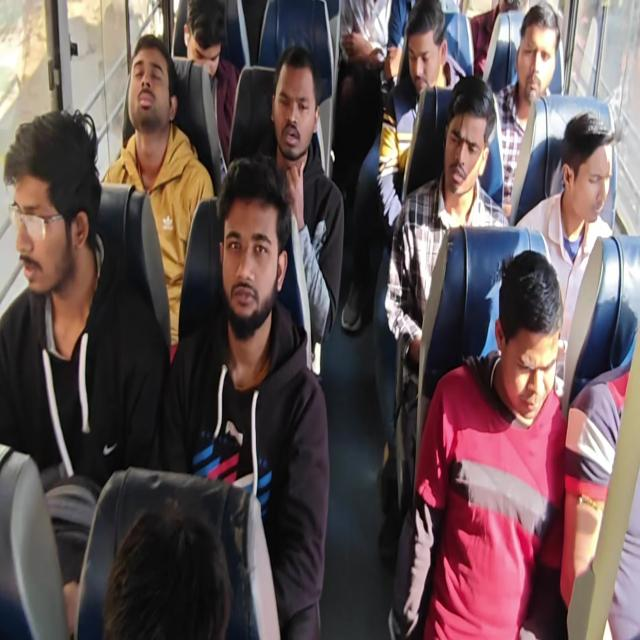person: (0, 1, 638, 638), (0, 107, 170, 635), (159, 153, 330, 638), (394, 248, 570, 639), (384, 73, 512, 526), (100, 33, 215, 359), (341, 0, 449, 333), (253, 43, 345, 374), (560, 326, 639, 639), (515, 110, 615, 349), (479, 1, 562, 221), (102, 505, 234, 639), (377, 0, 450, 228), (330, 0, 394, 204), (182, 0, 240, 169), (467, 0, 526, 79)
